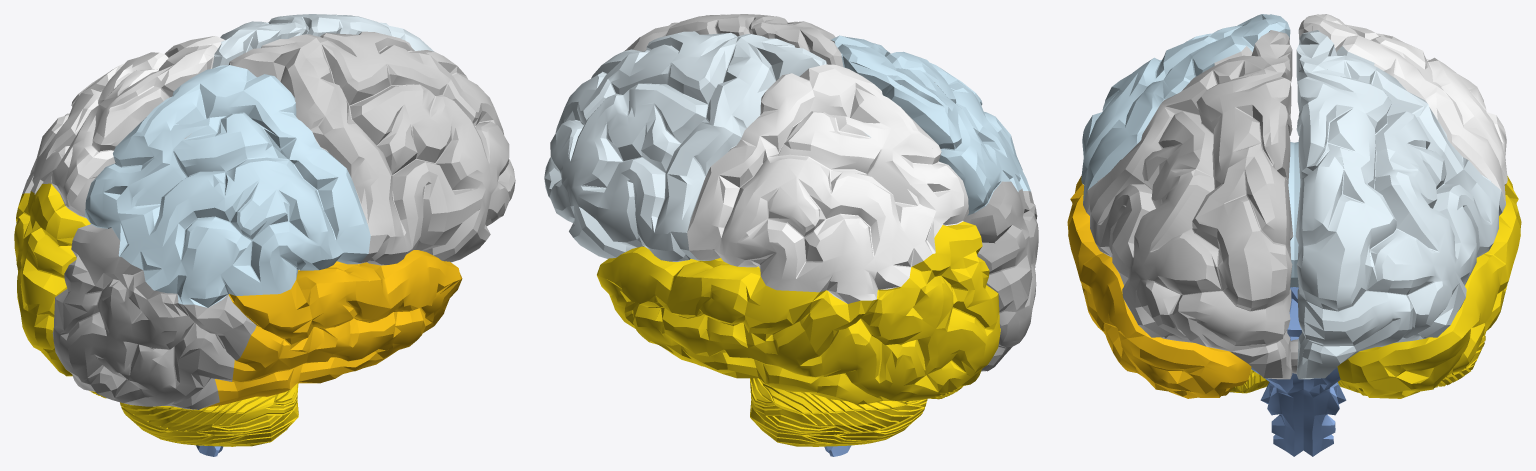
The model's file is brain.gltf.
3 views of the same model, side by side, from view 1: azimuth 30°, elevation 25°; view 2: azimuth 150°, elevation 25°; view 3: azimuth 270°, elevation 25° (orthographic). The views are drawn at different scales.
Visible parts, largest first — view 1: Mesh7 pariet1 brain1 Model, Mesh3 frontal1 brain1 Model, Mesh5 occipit1 brain1 Model, Mesh14 temp1 brain1 Model, Mesh9 pariet1 brain1 Model (1), Mesh6 occipit1 brain1 Model, Mesh1 cereb1 brain1 Model, Mesh4 frontal1 brain1 Model; view 2: Mesh9 pariet1 brain1 Model (1), Mesh4 frontal1 brain1 Model, Mesh6 occipit1 brain1 Model, Mesh16 temp1 brain1 Model (4), Mesh7 pariet1 brain1 Model, Mesh1 cereb1 brain1 Model, Mesh5 occipit1 brain1 Model, Mesh3 frontal1 brain1 Model; view 3: Mesh3 frontal1 brain1 Model, Mesh4 frontal1 brain1 Model, Mesh16 temp1 brain1 Model (4), Mesh14 temp1 brain1 Model, Mesh9 pariet1 brain1 Model (1), Mesh7 pariet1 brain1 Model, Mesh12 stem1 brain1 Model (3), Mesh2 corpus1 brain1 Model, Mesh1 cereb1 brain1 Model.
Part boxes in pixels (box(x1,y1,x2,y2)): Mesh7 pariet1 brain1 Model: box(85, 65, 370, 307); Mesh3 frontal1 brain1 Model: box(229, 31, 515, 265); Mesh5 occipit1 brain1 Model: box(52, 224, 256, 409); Mesh14 temp1 brain1 Model: box(205, 250, 462, 407); Mesh9 pariet1 brain1 Model (1): box(22, 36, 224, 218); Mesh6 occipit1 brain1 Model: box(14, 183, 90, 376); Mesh1 cereb1 brain1 Model: box(90, 383, 298, 446); Mesh4 frontal1 brain1 Model: box(212, 14, 433, 68); Mesh9 pariet1 brain1 Model (1): box(687, 64, 968, 303); Mesh4 frontal1 brain1 Model: box(544, 31, 826, 261); Mesh6 occipit1 brain1 Model: box(799, 221, 1000, 404); Mesh16 temp1 brain1 Model (4): box(597, 246, 846, 401); Mesh7 pariet1 brain1 Model: box(831, 35, 1030, 215); Mesh1 cereb1 brain1 Model: box(750, 378, 963, 446); Mesh5 occipit1 brain1 Model: box(963, 181, 1038, 371); Mesh3 frontal1 brain1 Model: box(625, 14, 843, 67); Mesh3 frontal1 brain1 Model: box(1083, 30, 1293, 379); Mesh4 frontal1 brain1 Model: box(1295, 30, 1505, 379); Mesh16 temp1 brain1 Model (4): box(1337, 176, 1521, 398); Mesh14 temp1 brain1 Model: box(1067, 176, 1251, 398); Mesh9 pariet1 brain1 Model (1): box(1298, 14, 1507, 203); Mesh7 pariet1 brain1 Model: box(1081, 14, 1290, 203); Mesh12 stem1 brain1 Model (3): box(1251, 287, 1346, 456); Mesh2 corpus1 brain1 Model: box(1288, 142, 1300, 287); Mesh1 cereb1 brain1 Model: box(1230, 332, 1485, 393).
Size of the model in its own units: 0.1631 by 0.1427 by 0.1341.
